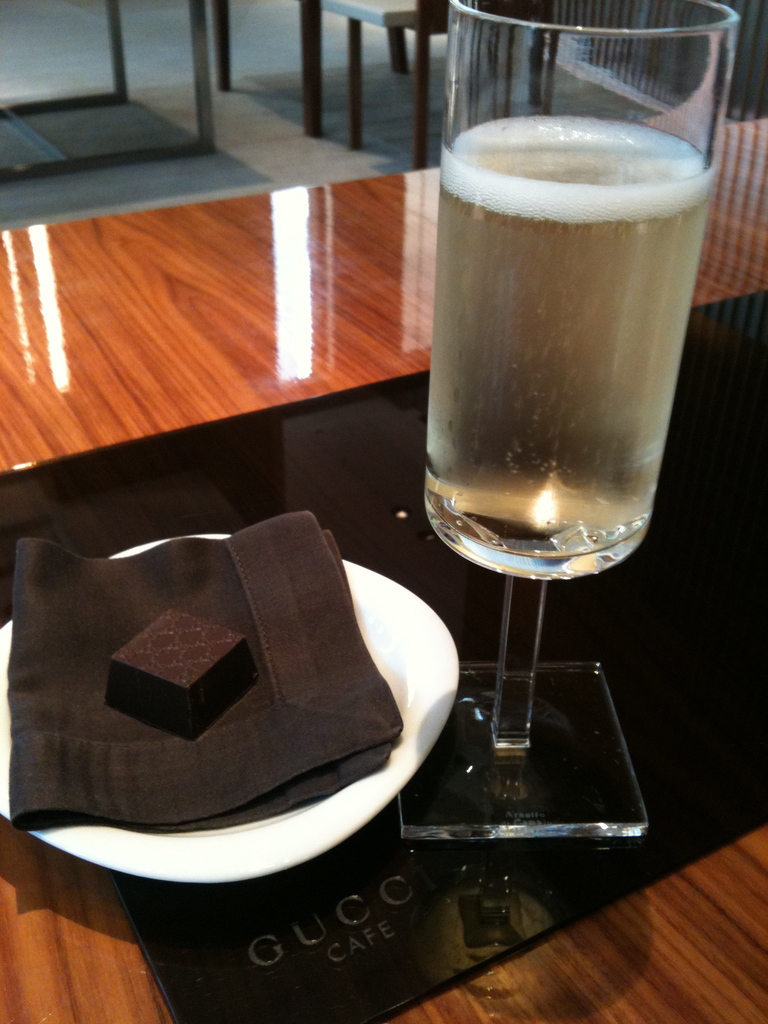Beer: (435, 0, 750, 835)
